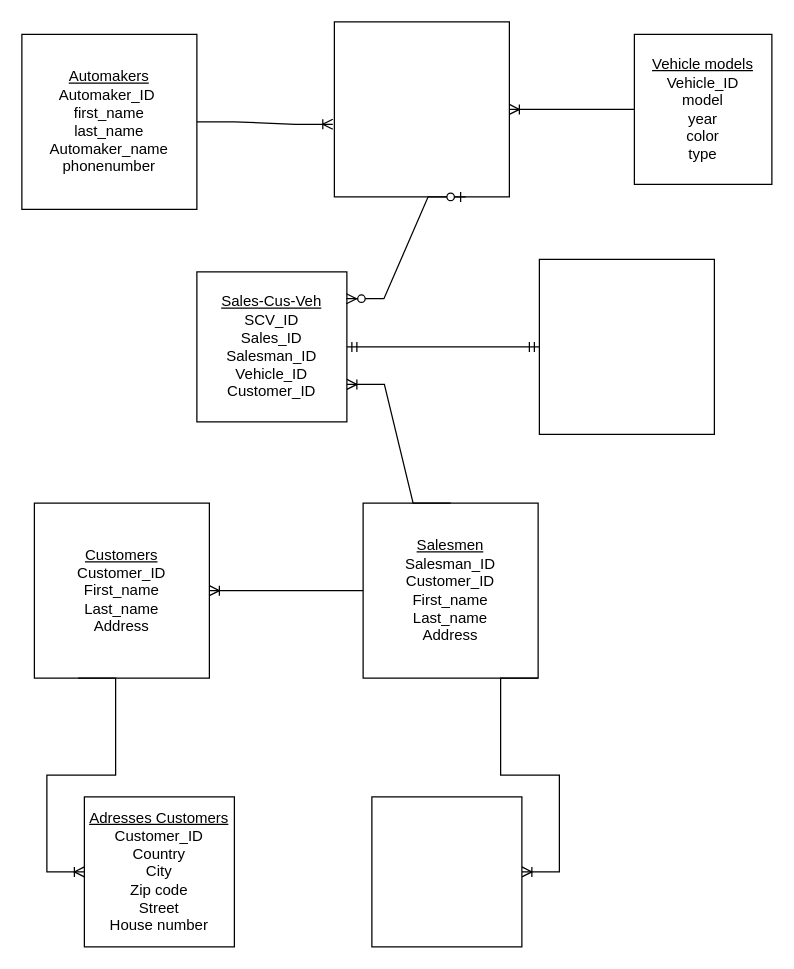
This 794x969 diagram has some shape labels left out. The centre of each missing label's shape, as x and y in pixels:
"Adresses Salesmen Salesman_ID Country City Zip code Street House number" goes at point 446,871.
"Sales data Sales_ID sellprice amount_sold invoice_number date" goes at point 626,346.
"Vehicle details Vehicle_ID Automaker_ID buy_price sell_price creation_date" goes at point 421,109.
